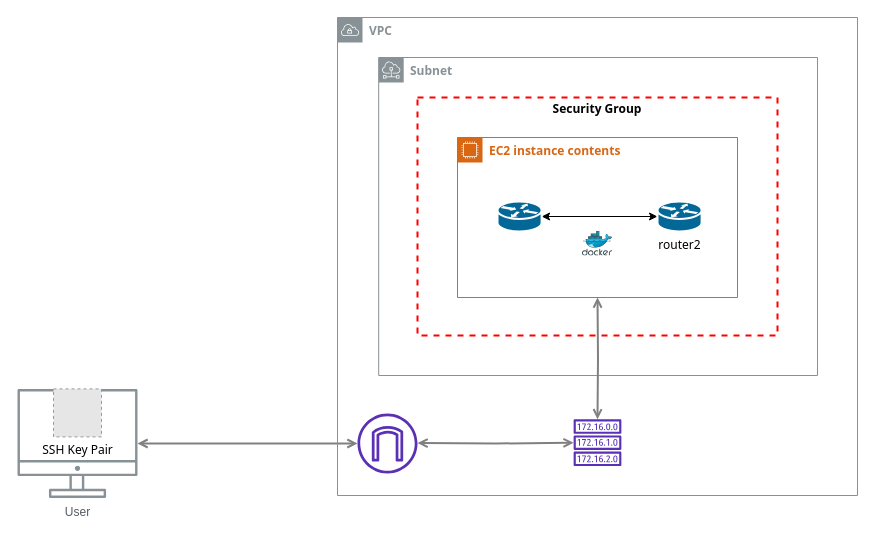
Some shapes in this 875 by 537 pixel diagram are drawn without their labels. Grey dashed boxes stand in for pictures. The centre of each missing label's shape, as x and y in pixels:
"Internet Gateway" goes at (x=387, y=443).
"Route Table" goes at (x=597, y=442).
"router1" goes at (x=519, y=216).
